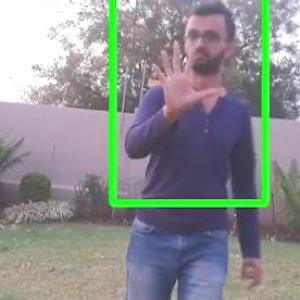follow_hand: (148, 35, 227, 114)
